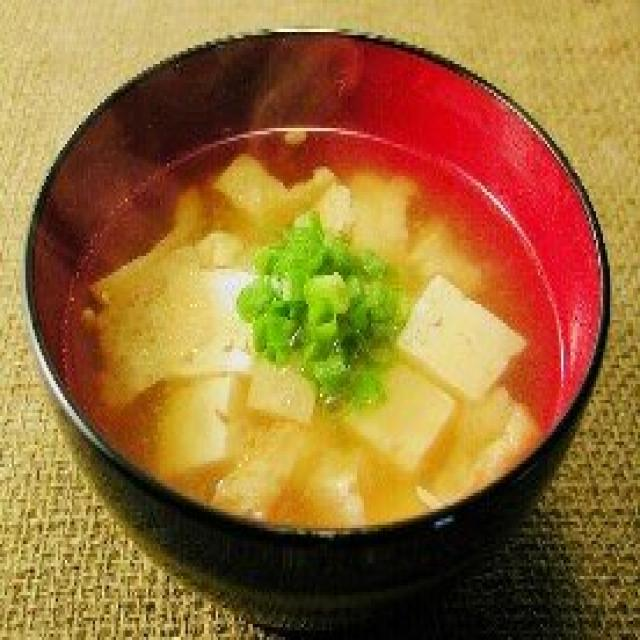汤锅炖物: (9, 6, 617, 640)
